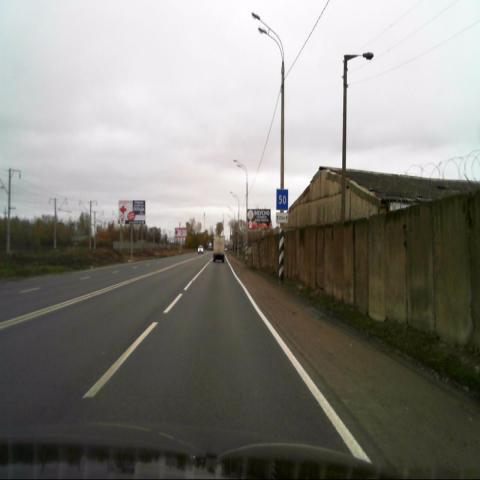6_2: (276, 189, 288, 210)
